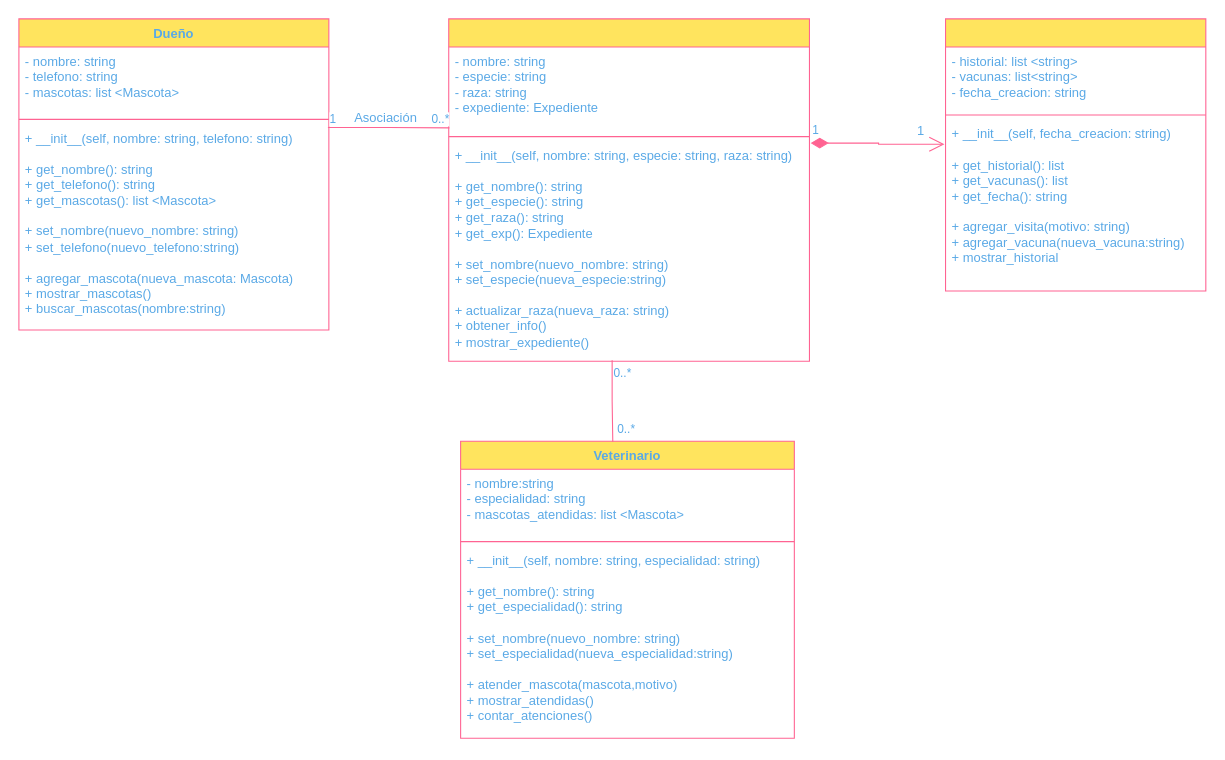
This 1225x760 diagram has some shape labels left out. The shapes that lost their labels are listed below. From the top down, each one's box as (x1, y1, x2, y2) in pixels, then its label:
(944, 18, 1206, 291): Expediente
(448, 18, 809, 361): Mascota
